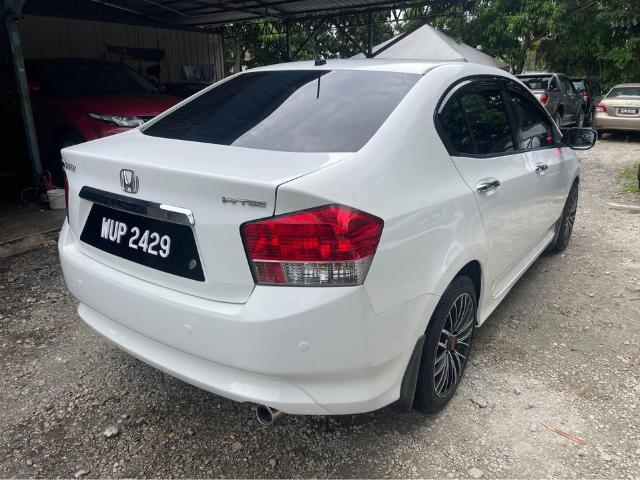License_Plate: (89, 209, 182, 268)
